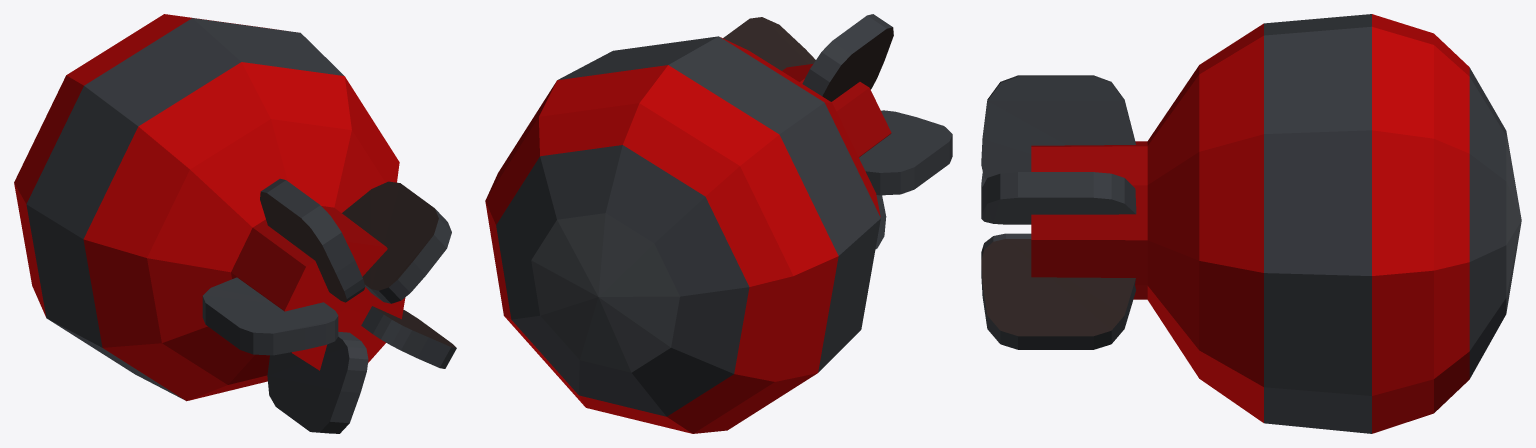
Rendered from TsarBombaExplosion.fbx.
The picture shows the model from 3 angles, left to right: view 1: azimuth 30°, elevation 25°; view 2: azimuth 150°, elevation 25°; view 3: azimuth 270°, elevation 25°; orthographic projection. The views are drawn at different scales.
Parts seen in each view (by area): view 1: TsarBomb; view 2: TsarBomb; view 3: TsarBomb.
Boxes of the visible parts, bbox=[...] form: TsarBomb: bbox=[14, 14, 456, 433]; TsarBomb: bbox=[485, 14, 952, 433]; TsarBomb: bbox=[981, 14, 1521, 433].
Bounding box in the file's own units: 36.51 × 35.96 × 46.81.
1 material, 1 textured.
